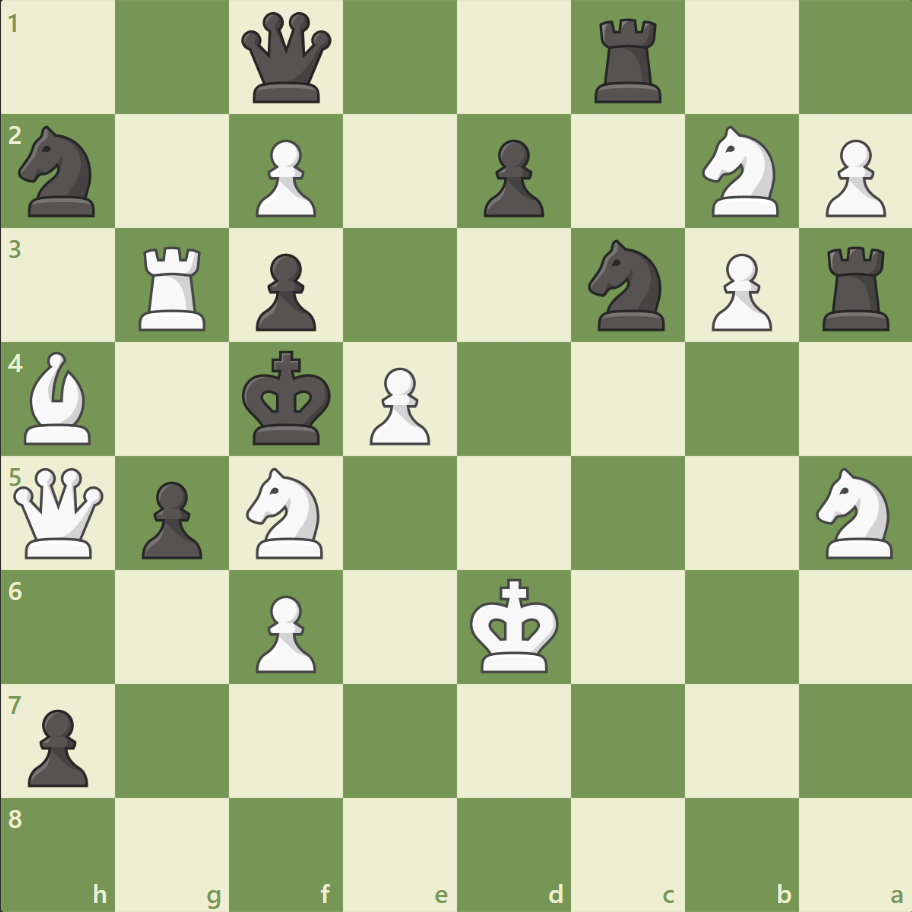B: (17, 347, 101, 449)
K: (465, 571, 565, 679)
N: (806, 461, 903, 564), (238, 461, 335, 564), (692, 121, 789, 223)
P: (247, 586, 322, 677), (701, 246, 776, 337), (247, 132, 322, 223), (361, 359, 435, 450), (815, 132, 889, 223)
Q: (10, 463, 109, 562)
R: (133, 239, 215, 336)
k: (238, 344, 338, 452)
n: (579, 234, 676, 337), (11, 121, 108, 223)
p: (20, 700, 95, 791), (133, 473, 208, 564), (247, 246, 322, 337), (474, 132, 549, 223)
q: (237, 9, 336, 108)
r: (814, 239, 897, 336), (587, 12, 670, 109)
